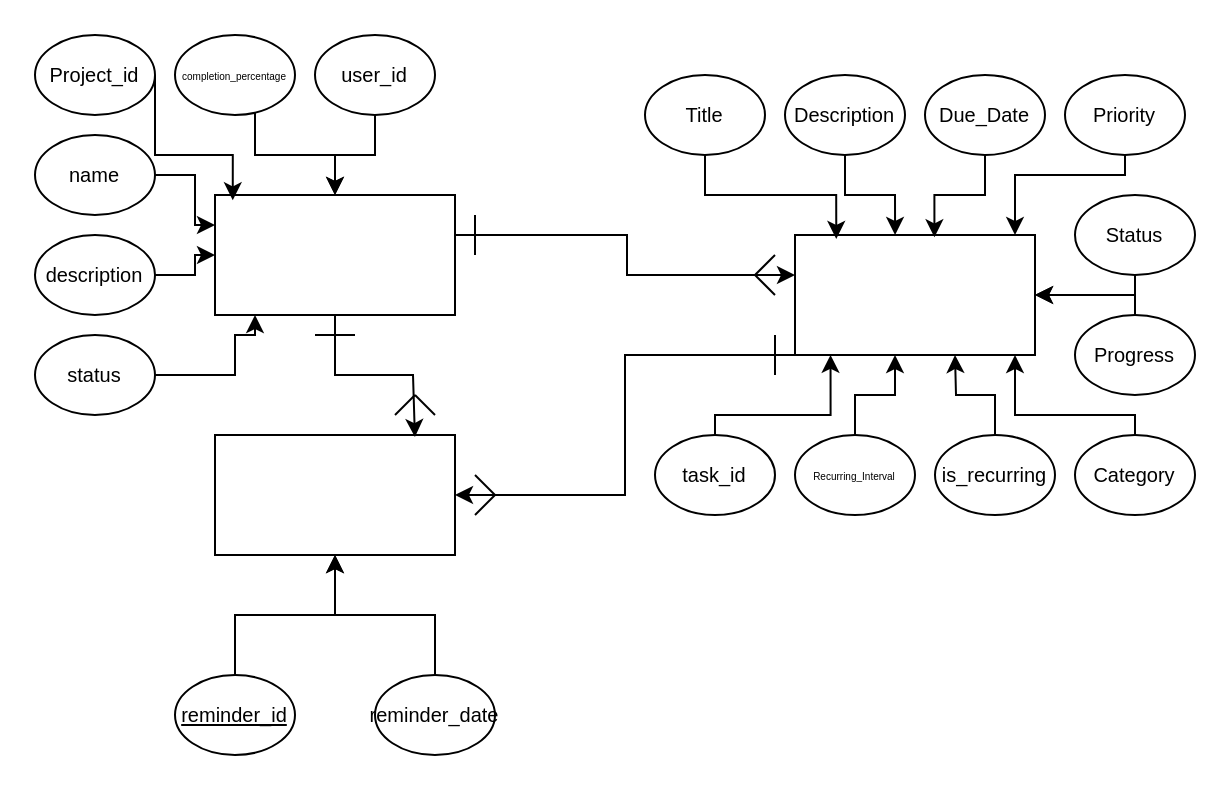
Some shapes in this 1230 by 790 pixel diagram are drawn without their labels. The shapes that lost their labels are listed below. From the top down, each one's centre as x and y in pixels, then its label:
point (334, 254): Project
point (914, 294): Task
point (334, 494): Reminder
